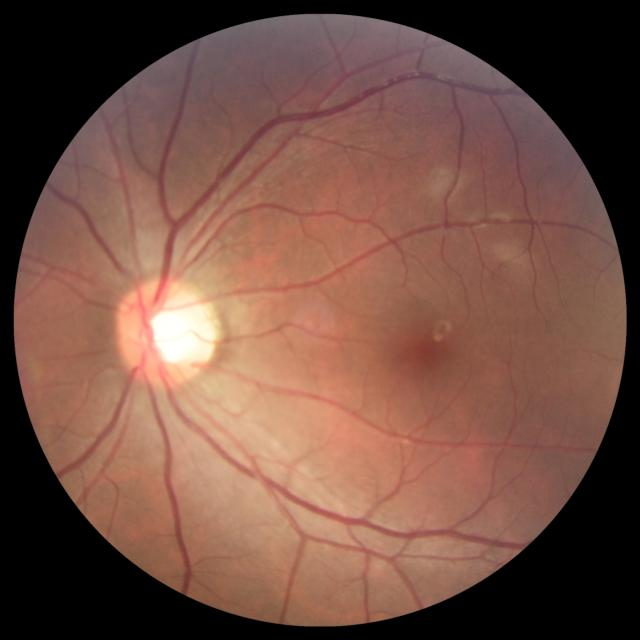OC: (145, 294, 213, 368)
OD: (115, 275, 219, 387)
